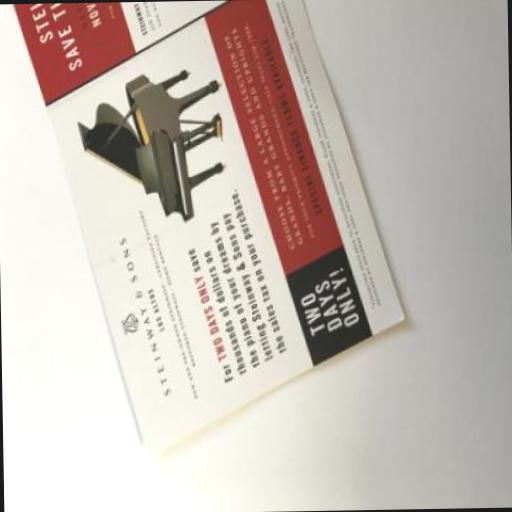paper: (10, 0, 405, 452)
